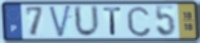5: (153, 4, 178, 39)
7: (25, 5, 45, 38)
C: (125, 5, 153, 38)
T: (102, 6, 123, 37)
U: (72, 4, 102, 39)
V: (47, 4, 73, 39)
